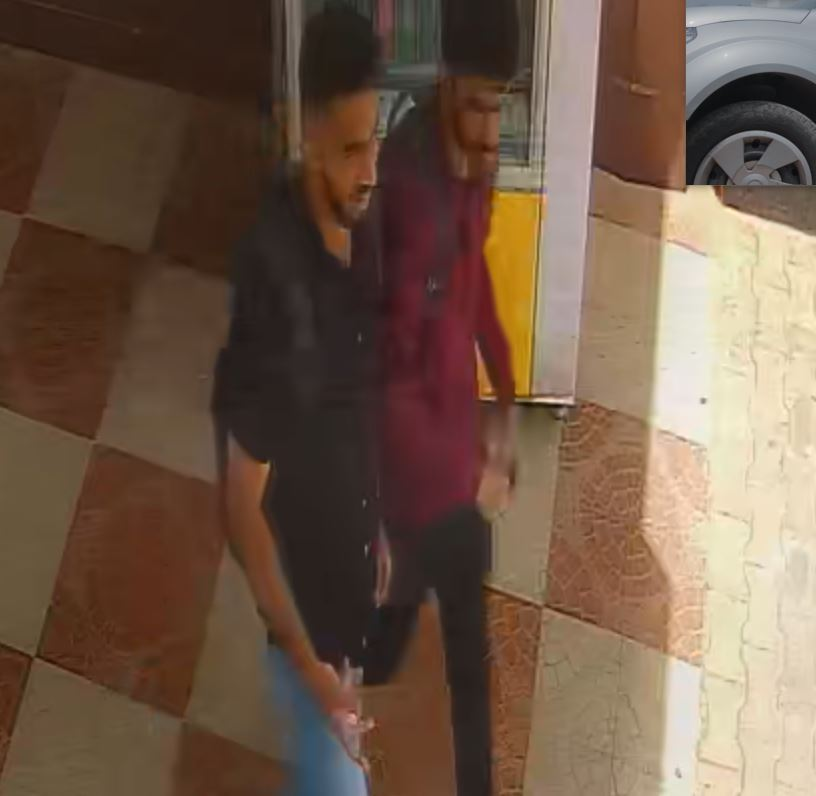not intruder: (208, 7, 396, 796), (376, 8, 547, 793)
